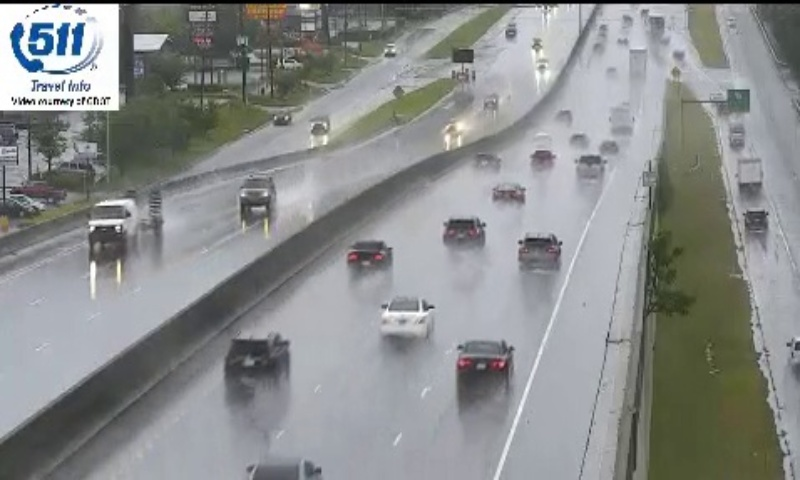car: (224, 333, 289, 382), (456, 340, 513, 384), (381, 299, 433, 339), (518, 232, 558, 270), (346, 240, 393, 272), (443, 217, 485, 251)
